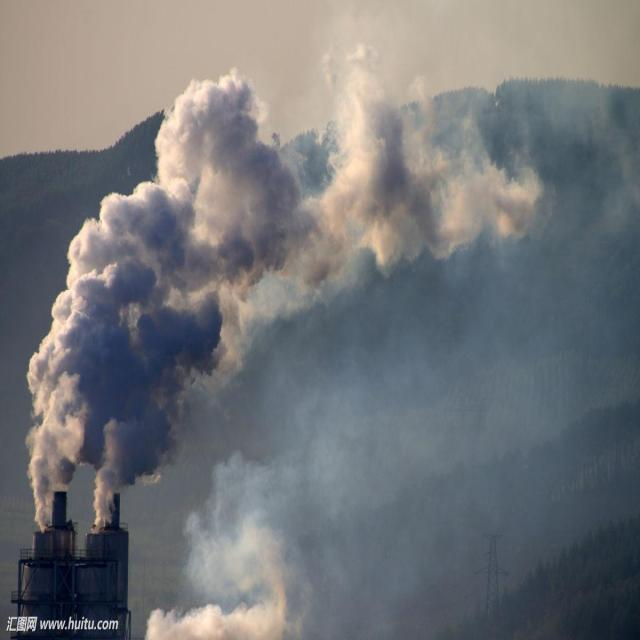Smoke: (30, 34, 550, 490), (145, 332, 640, 640), (91, 416, 156, 532), (192, 280, 232, 368)
